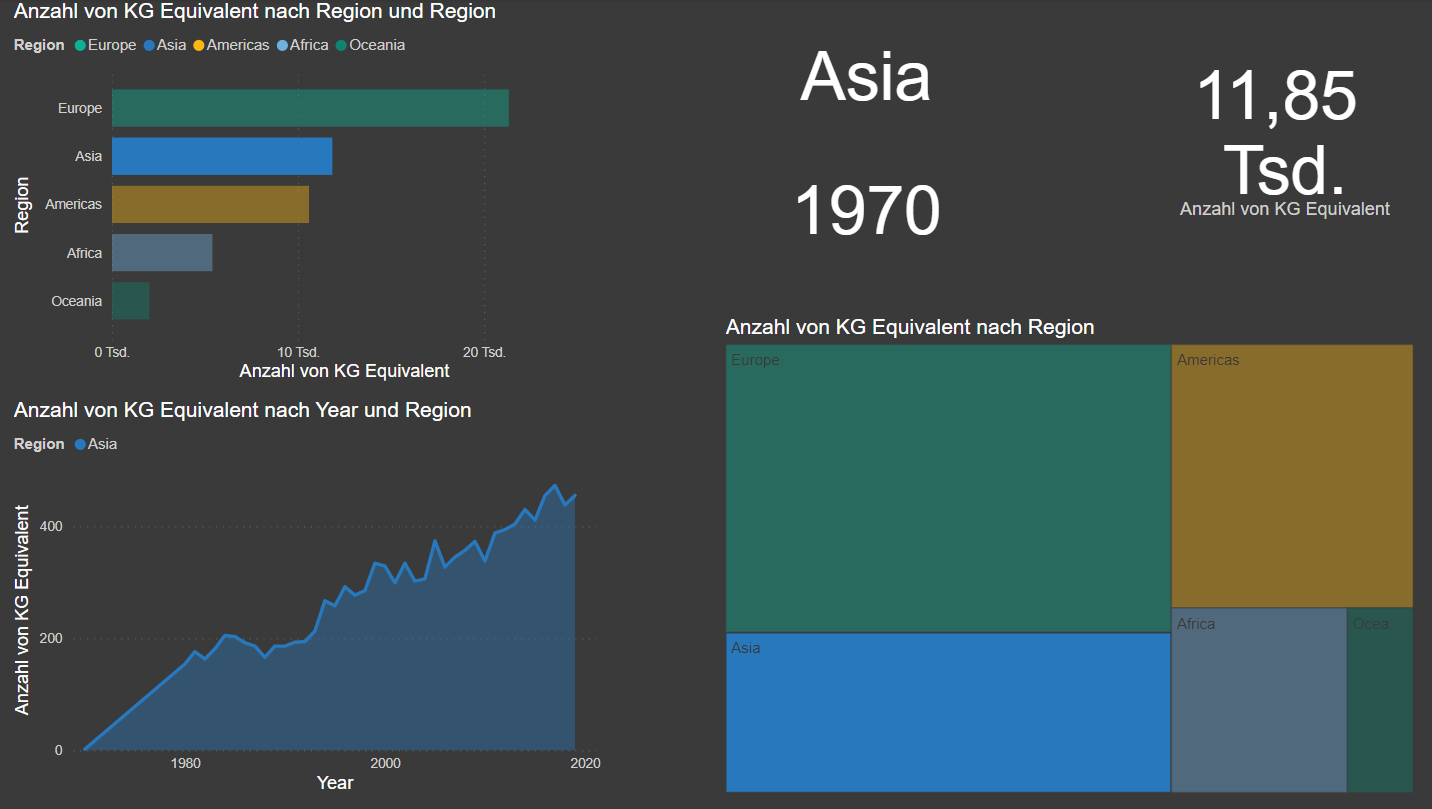

This screenshot's page, from the dashboard's own definition file:
{"tool":"powerbi","page":{"name":"Daten nach Kontinent und Jahr","canvas":[1280,720],"ordinal":3},"visuals":[{"type":"barChart","fields":{"Category":["seizures_1.Region"],"Y":["CountNonNull(seizures_1.KG Equivalent)"],"Series":["seizures_1.Region"]},"box":[9.7,0,529.1,343.3],"z":0},{"type":"areaChart","fields":{"Series":["seizures_1.Region"],"Y":["CountNonNull(seizures_1.KG Equivalent)"],"Category":["seizures_1.Year"]},"box":[9.7,353.4,529.6,354.2],"z":1000},{"type":"card","fields":{"Values":["Min(seizures_1.Region)"]},"box":[538.5,0,463.2,126.6],"z":1001},{"type":"card","fields":{"Values":["Min(seizures_1.Year)"]},"box":[538.5,126.6,463.2,110.7],"z":1002},{"type":"card","fields":{"Values":["CountNonNull(seizures_1.KG Equivalent)"]},"box":[1001.6,0,278.1,237.3],"z":1003},{"type":"treemap","fields":{"Values":["CountNonNull(seizures_1.KG Equivalent)"],"Group":["seizures_1.Region"]},"box":[640.3,279.9,619,427.7],"z":1004}]}

Visuals, with their boxes in screenshot pixels (x1, y1, x2, y2), scaled from the page's 1280x720 canvas onto the 1432x809 screenshot:
barChart - seizures_1.Region x CountNonNull(seizures_1.KG Equivalent): 11/0/603/386
areaChart - seizures_1.Region x CountNonNull(seizures_1.KG Equivalent): 11/397/603/795
card - Min(seizures_1.Region): 602/0/1121/142
card - Min(seizures_1.Year): 602/142/1121/267
card - CountNonNull(seizures_1.KG Equivalent): 1121/0/1431/267
treemap - CountNonNull(seizures_1.KG Equivalent) x seizures_1.Region: 716/314/1409/795
